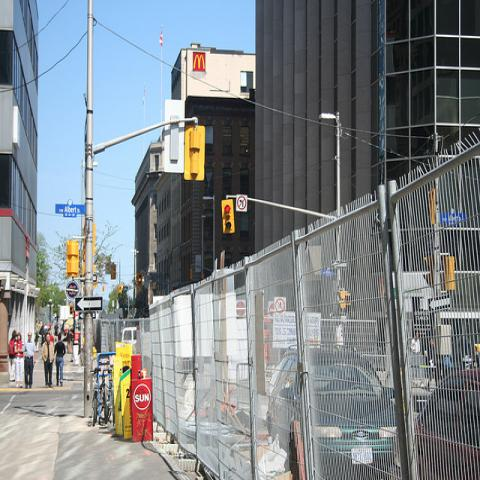car: (266, 347, 398, 467), (416, 368, 479, 476)
truck: (122, 327, 136, 343)
